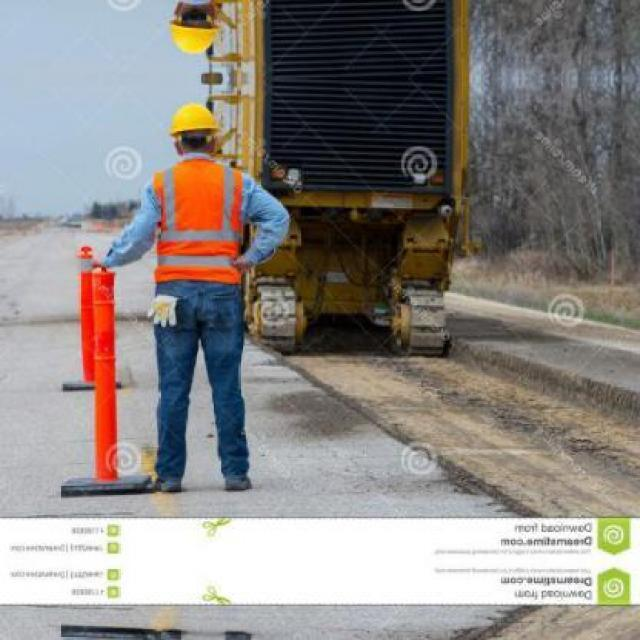reflective_jacket: (130, 157, 263, 297)
safety_helmet: (156, 94, 229, 146)
